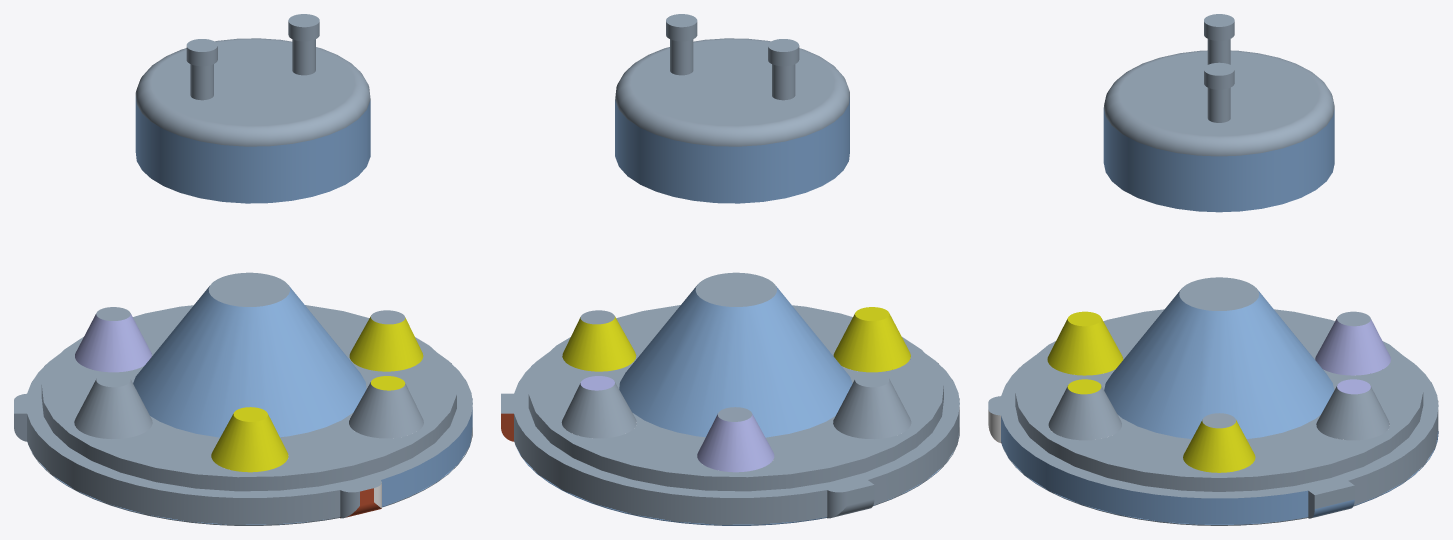
File: LedLightFixture.FBX
The picture shows the model from 3 angles, left to right: view 1: azimuth 30°, elevation 25°; view 2: azimuth 150°, elevation 25°; view 3: azimuth 270°, elevation 25°; orthographic projection.
Parts seen in each view (by area): view 1: lamp; view 2: lamp; view 3: lamp.
Boxes of the visible parts, left/top/right/bottom form: lamp: left=14, top=14, right=472, bottom=525; lamp: left=501, top=14, right=959, bottom=525; lamp: left=988, top=14, right=1438, bottom=525.
Bounding box in the file's own units: 2.24 × 2.2 × 2.3.
